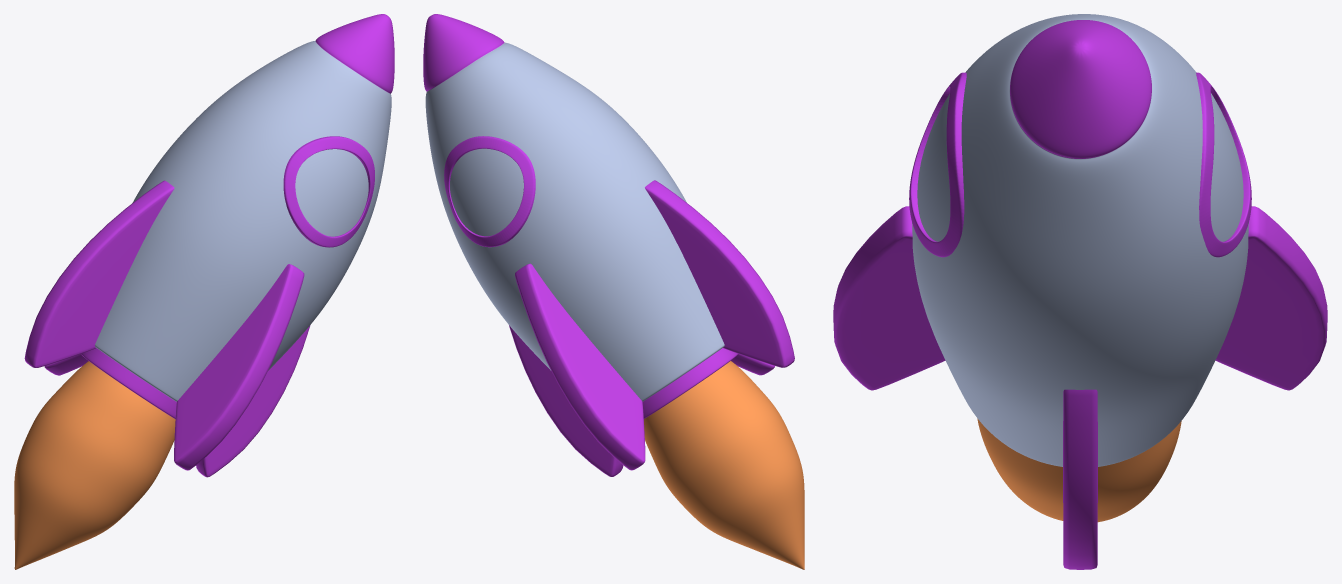
File: space-ship.glb
The picture shows the model from 3 angles, left to right: view 1: azimuth 30°, elevation 25°; view 2: azimuth 150°, elevation 25°; view 3: azimuth 270°, elevation 25°; orthographic projection. The views are drawn at different scales.
Visible parts, largest first — view 1: Cylinder, Cylinder.002, Cube.001, Cube, Cylinder.001; view 2: Cylinder, Cylinder.002, Cube.001, Cube, Cylinder.001; view 3: Cylinder, Cube, Cylinder.001, Cylinder.002, Cube.001.
Boxes of the visible parts, <box> form: Cylinder: <box>81,14,394,419</box>; Cylinder.002: <box>14,361,175,569</box>; Cube.001: <box>24,180,310,477</box>; Cube: <box>44,264,304,470</box>; Cylinder.001: <box>283,136,374,247</box>; Cylinder: <box>423,14,737,418</box>; Cylinder.002: <box>644,361,804,569</box>; Cube.001: <box>509,180,794,476</box>; Cube: <box>515,263,774,470</box>; Cylinder.001: <box>444,136,535,247</box>; Cylinder: <box>912,14,1248,466</box>; Cube: <box>833,206,1327,390</box>; Cylinder.001: <box>909,72,1251,257</box>; Cylinder.002: <box>977,418,1181,522</box>; Cube.001: <box>1063,389,1097,569</box>.
Size of the model in its own units: 69.19 by 81.67 by 48.97.
